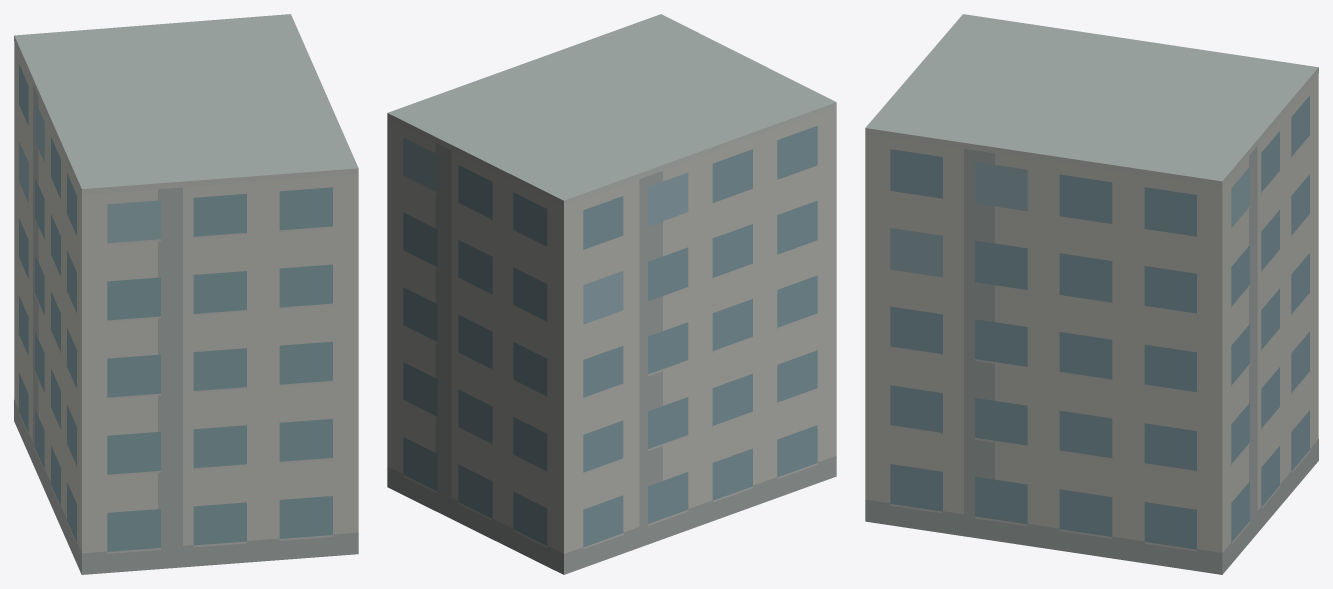
File: survey-upis-32890938.glb
3 views of the same model, side by side, from view 1: azimuth 30°, elevation 25°; view 2: azimuth 150°, elevation 25°; view 3: azimuth 270°, elevation 25° (orthographic). The views are drawn at different scales.
Parts seen in each view (by area): view 1: survey-upis-32890938.tmp; view 2: survey-upis-32890938.tmp; view 3: survey-upis-32890938.tmp.
Part boxes in pixels (left/top/right/bottom): survey-upis-32890938.tmp: left=14, top=14, right=358, bottom=574; survey-upis-32890938.tmp: left=387, top=14, right=836, bottom=574; survey-upis-32890938.tmp: left=865, top=14, right=1318, bottom=574.
Bounding box in the file's own units: 14.51 × 15.9 × 16.62.
